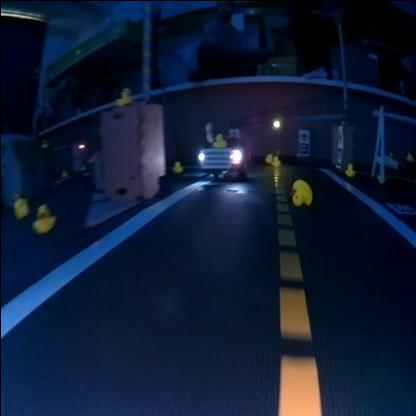Duckie: (31, 204, 55, 231), (290, 178, 311, 204), (115, 86, 130, 102), (212, 132, 225, 144), (171, 158, 180, 170), (344, 162, 352, 174), (272, 156, 278, 164), (265, 152, 271, 160)
Duckiebot: (197, 137, 247, 179)
QR code: (387, 200, 411, 212), (297, 142, 307, 154), (334, 146, 340, 166)
Traffic light: (271, 117, 280, 127)
